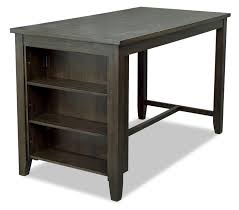table: (13, 6, 227, 200)
